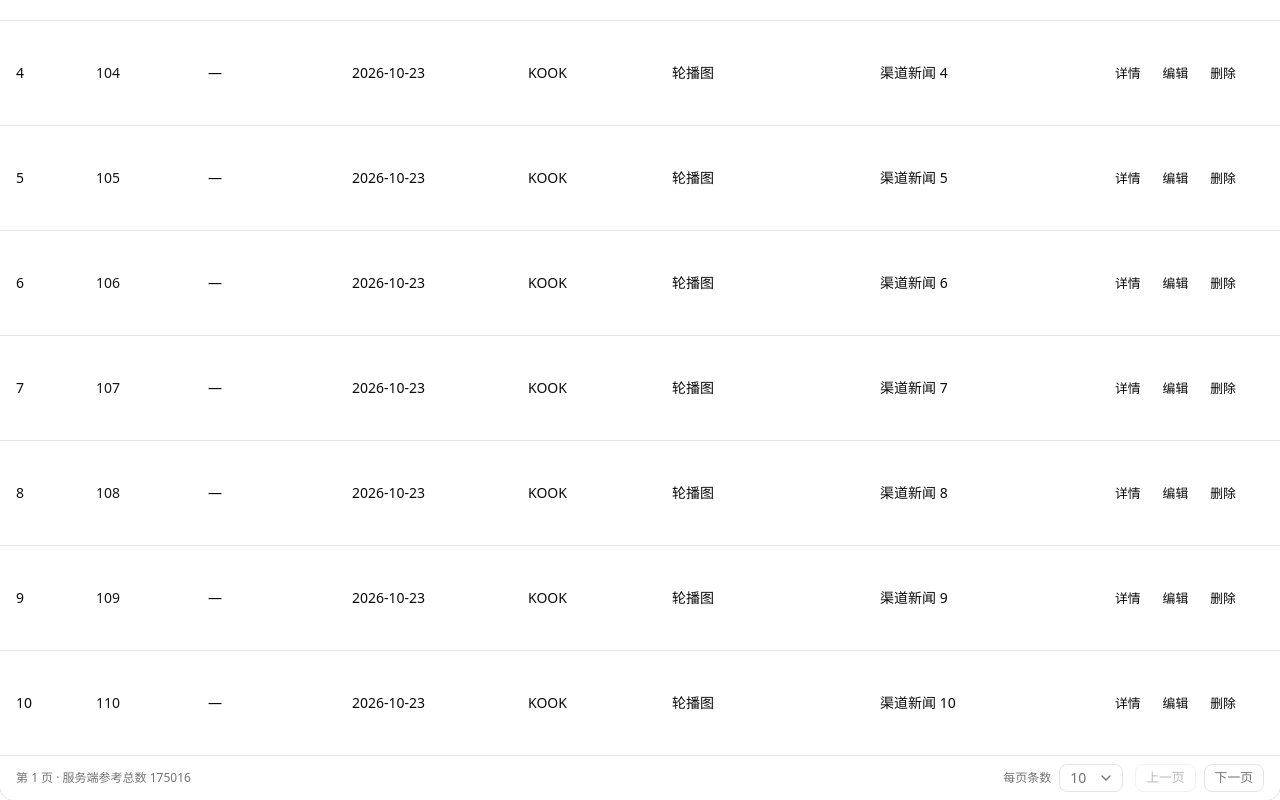
it: 渠道素材筛选、分页和详情 › 下一页为空保留上一页，不按错误总数继续请求
(page scrolled)
Expected: the button "渠道新闻 10" is shown, 880,693 -> 1168,713
Click the button "下一页" at (1234, 778), box 1204,764 -> 1264,792
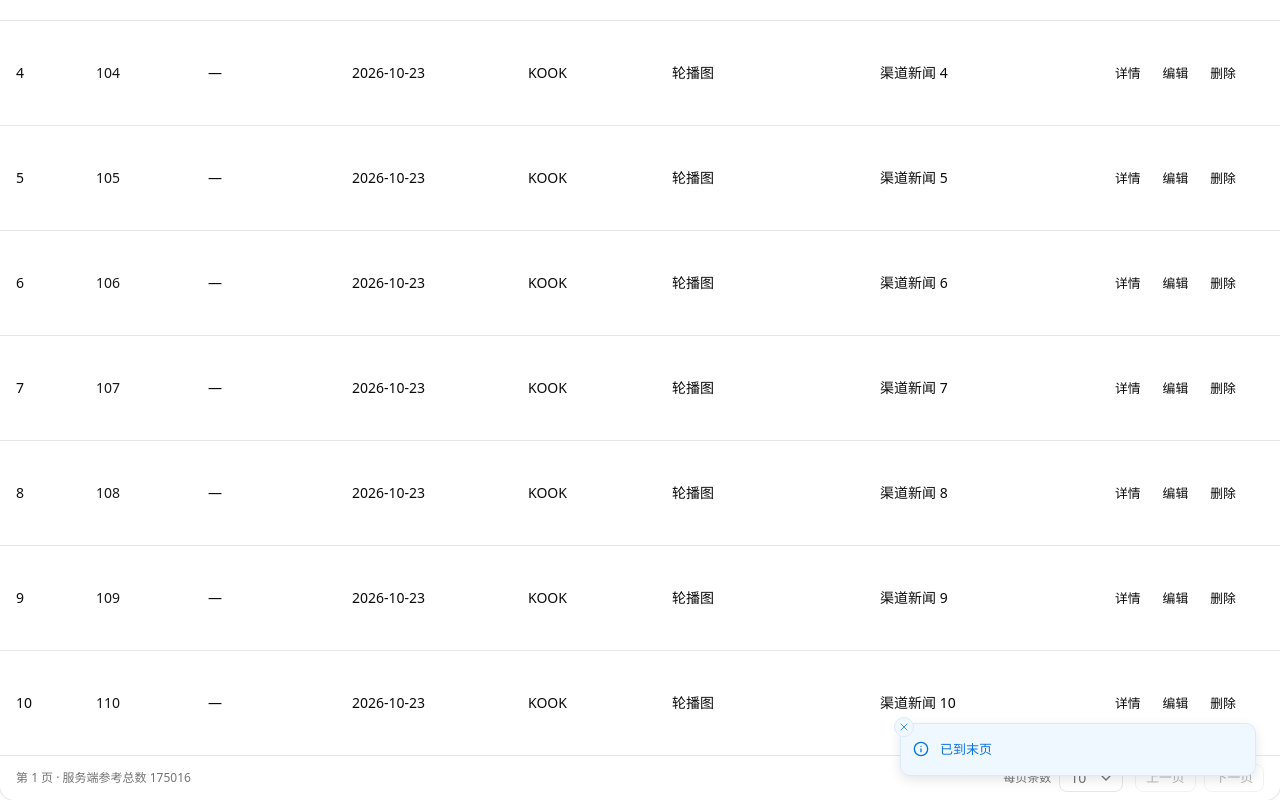
Expected: the button "渠道新闻 10" is shown, 880,693 -> 1168,713
Expected: the button "下一页" is disabled, 1204,764 -> 1264,792
